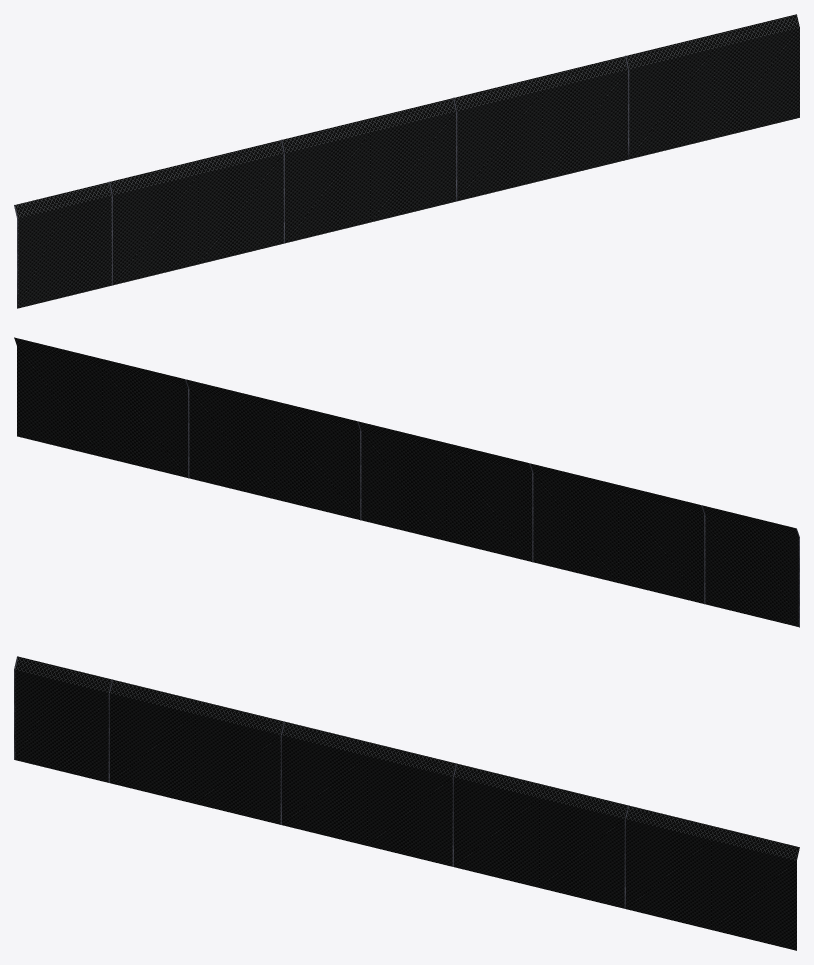
File: M10_WireFence30.glb
3 renders of one model, top to bottom at view 1: azimuth 30°, elevation 25°; view 2: azimuth 150°, elevation 25°; view 3: azimuth 330°, elevation 25°, orthographic.
Parts seen in each view (by area): view 1: M10_WIREFENCE30; view 2: M10_WIREFENCE30; view 3: M10_WIREFENCE30.
Part boxes in pixels (<box>): M10_WIREFENCE30: <box>14,14,799,308</box>; M10_WIREFENCE30: <box>14,337,799,627</box>; M10_WIREFENCE30: <box>14,656,799,950</box>.
Size of the model in its own units: 18.2 by 2.25 by 0.141.
Materials: 2 (2 with a texture image).
